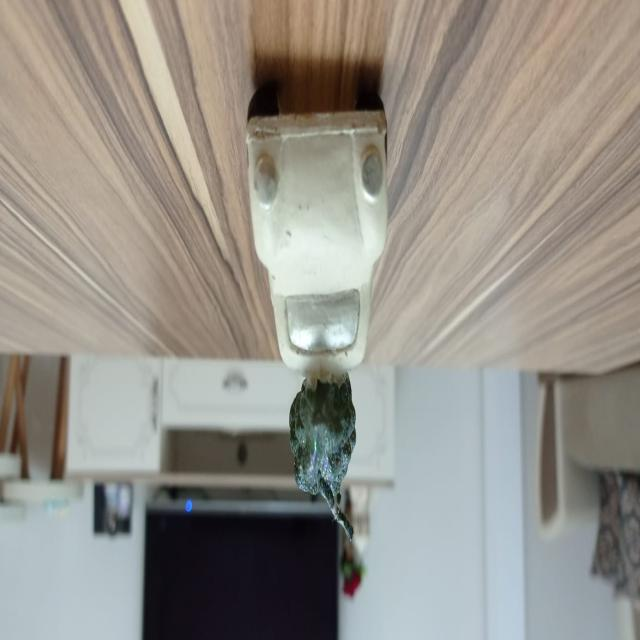car: (252, 86, 388, 370)
